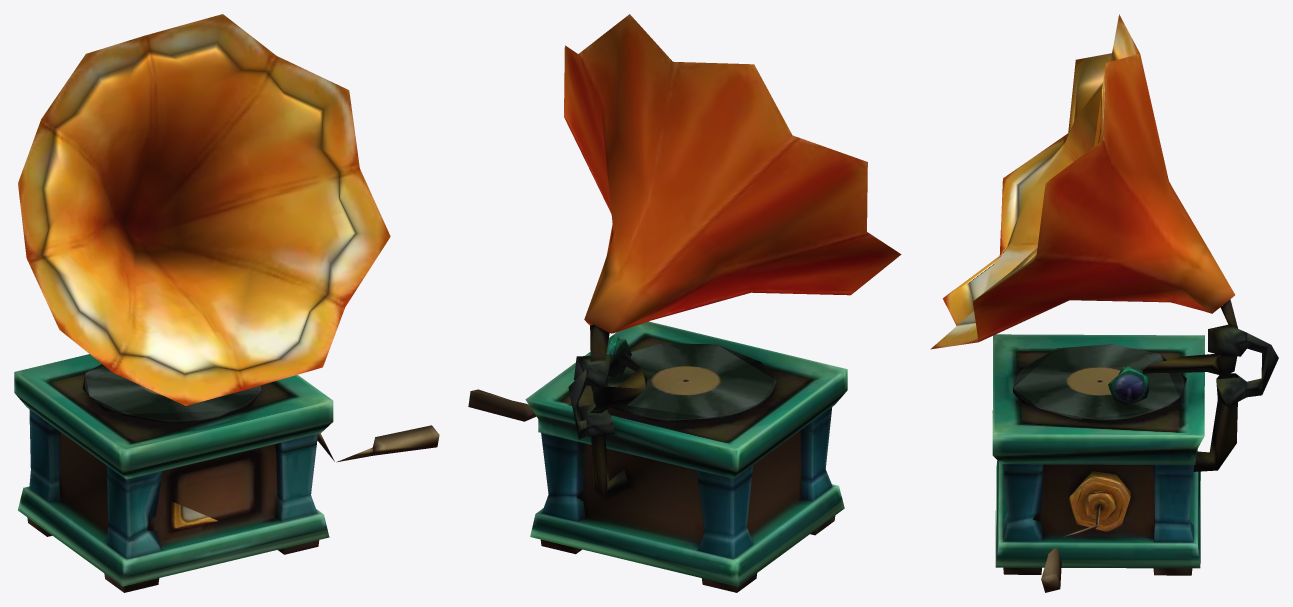
File: Phonograph.glb
3 views of the same model, side by side, from view 1: azimuth 30°, elevation 25°; view 2: azimuth 150°, elevation 25°; view 3: azimuth 270°, elevation 25° (orthographic). The views are drawn at different scales.
Visible parts, largest first — view 1: 3d66-Editable_Poly-21922200-001; view 2: 3d66-Editable_Poly-21922200-001; view 3: 3d66-Editable_Poly-21922200-001.
Part boxes in pixels (x1,y1,x2,y2): 3d66-Editable_Poly-21922200-001: (14,14,439,592); 3d66-Editable_Poly-21922200-001: (468,14,901,592); 3d66-Editable_Poly-21922200-001: (930,14,1278,592).
Bounding box in the file's own units: 0.8173 × 0.9776 × 0.6283.
Materials: 2 (2 with a texture image).
